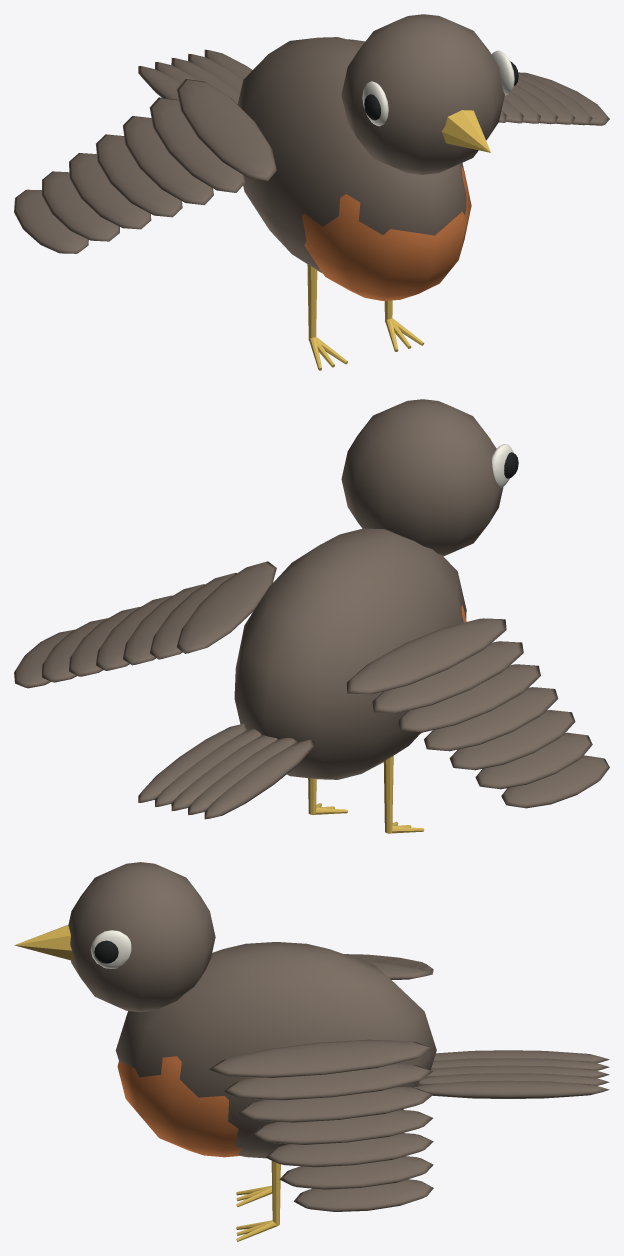
The model's file is american-robin.glb.
The picture shows the model from 3 angles, top to bottom: view 1: azimuth 30°, elevation 25°; view 2: azimuth 150°, elevation 25°; view 3: azimuth 270°, elevation 25°; orthographic projection. The views are drawn at different scales.
Parts seen in each view (by area): view 1: Body, Flight feather, Breast, Flight feather.007, Beak, Eye ring; view 2: Body, Flight feather, Flight feather.007, Beak; view 3: Body, Flight feather.007, Breast, Beak, Flight feather, Eye ring.
Part boxes in pixels (box(x1,y1,x2,y2)): Body: box(138, 14, 504, 272); Flight feather: box(14, 79, 276, 253); Breast: box(302, 166, 471, 300); Flight feather.007: box(348, 39, 609, 125); Beak: box(307, 110, 490, 370); Eye ring: box(362, 50, 514, 126); Body: box(138, 399, 503, 819); Flight feather: box(346, 618, 609, 808); Flight feather.007: box(14, 561, 276, 688); Beak: box(308, 438, 490, 833); Body: box(68, 862, 609, 1158); Flight feather.007: box(209, 1039, 433, 1211); Breast: box(117, 1056, 241, 1157); Beak: box(14, 925, 280, 1241); Flight feather: box(344, 954, 433, 979); Eye ring: box(90, 930, 131, 968).
Bounding box in the file's own units: 0.3382 × 0.216 × 0.334.
